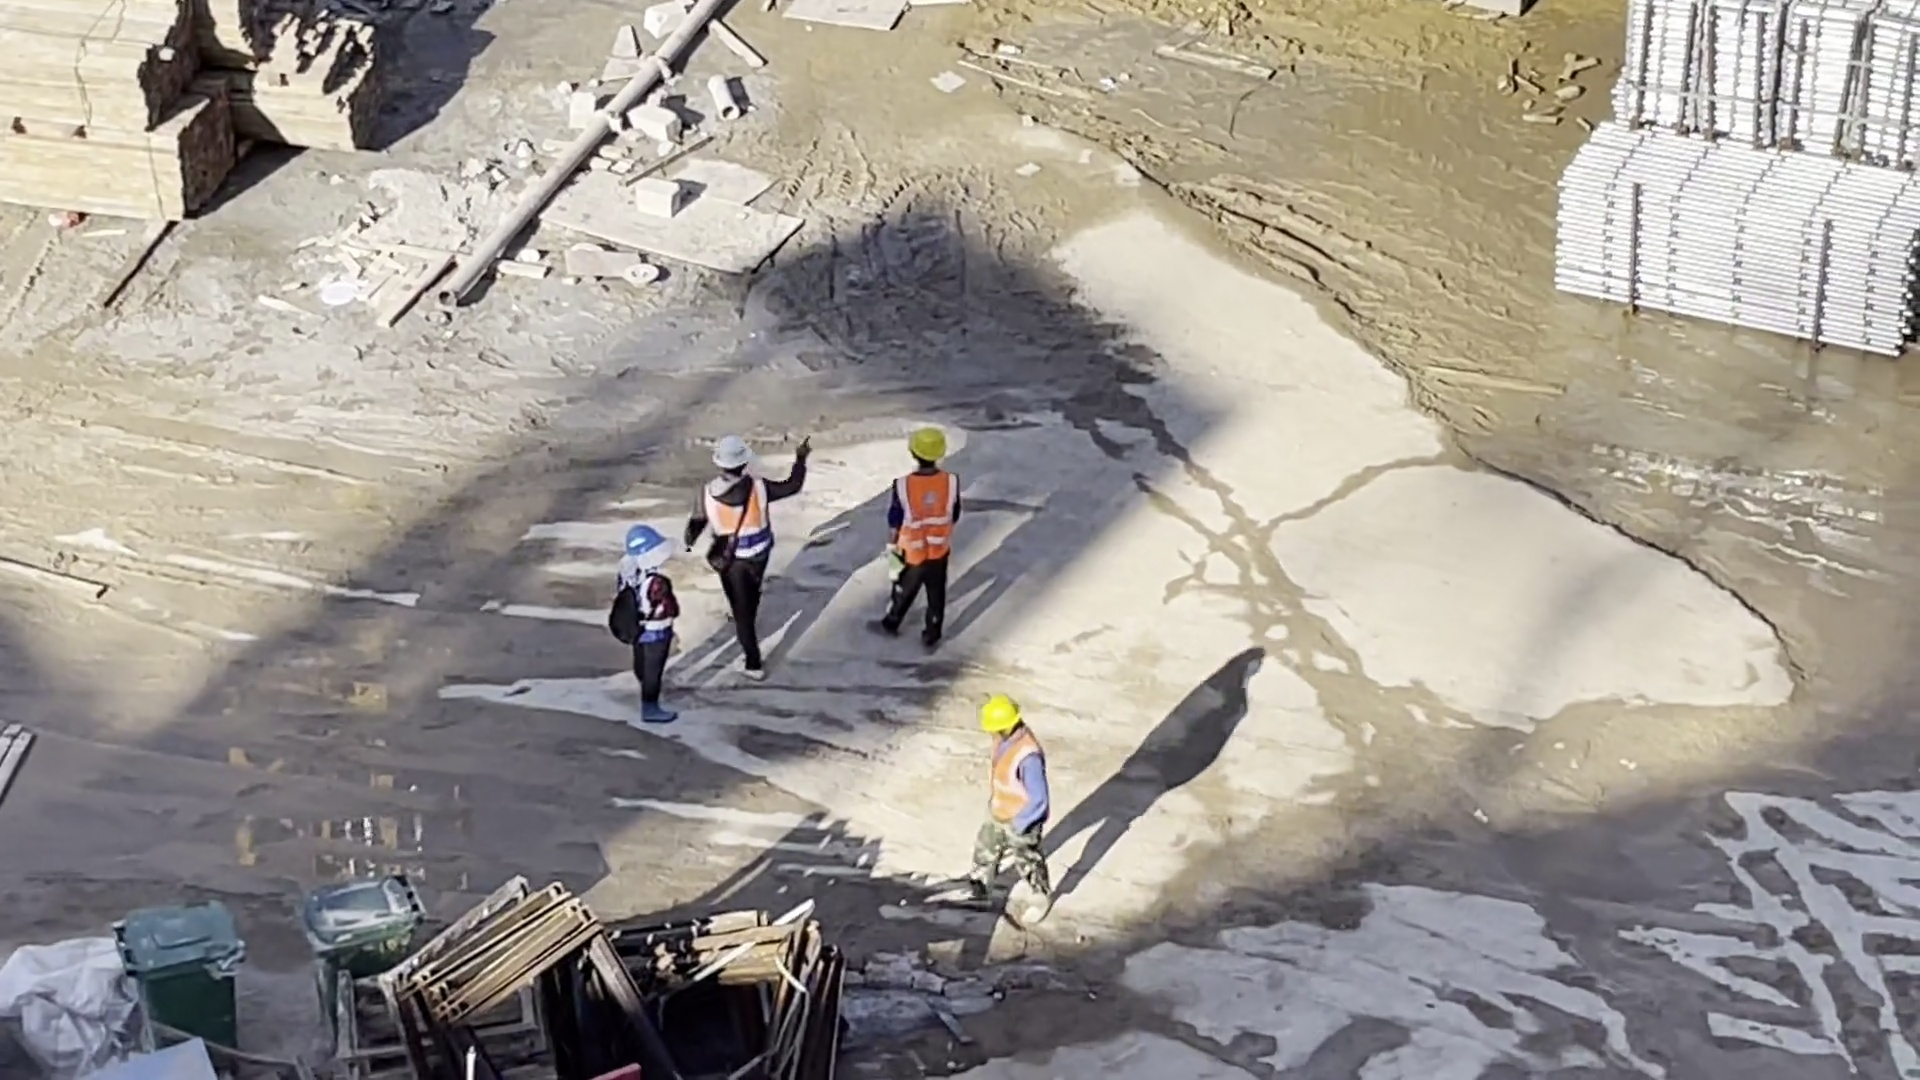helmet: (982, 697, 1025, 733), (712, 438, 755, 472), (627, 527, 669, 558), (911, 434, 948, 464)
person: (697, 439, 778, 677), (974, 697, 1050, 914), (881, 431, 954, 651), (617, 527, 679, 720)
scaffold: (1555, 127, 1920, 356), (1617, 1, 1920, 160)
vest: (896, 468, 954, 568), (989, 742, 1040, 831), (702, 484, 767, 545), (627, 572, 670, 639)
wood: (1, 9, 296, 212)
